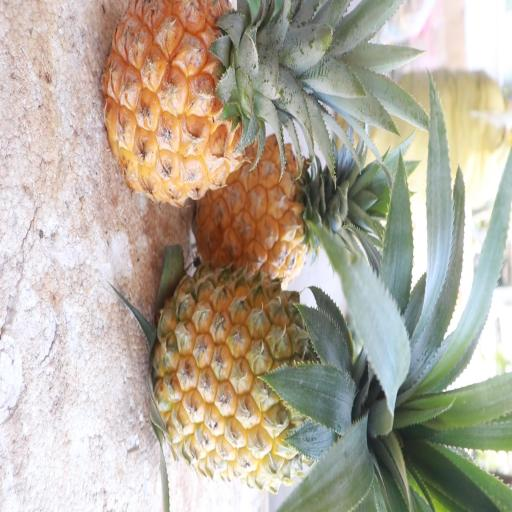Pineapple - v8 v1: (144, 258, 386, 489), (100, 0, 339, 221), (189, 126, 364, 293)
